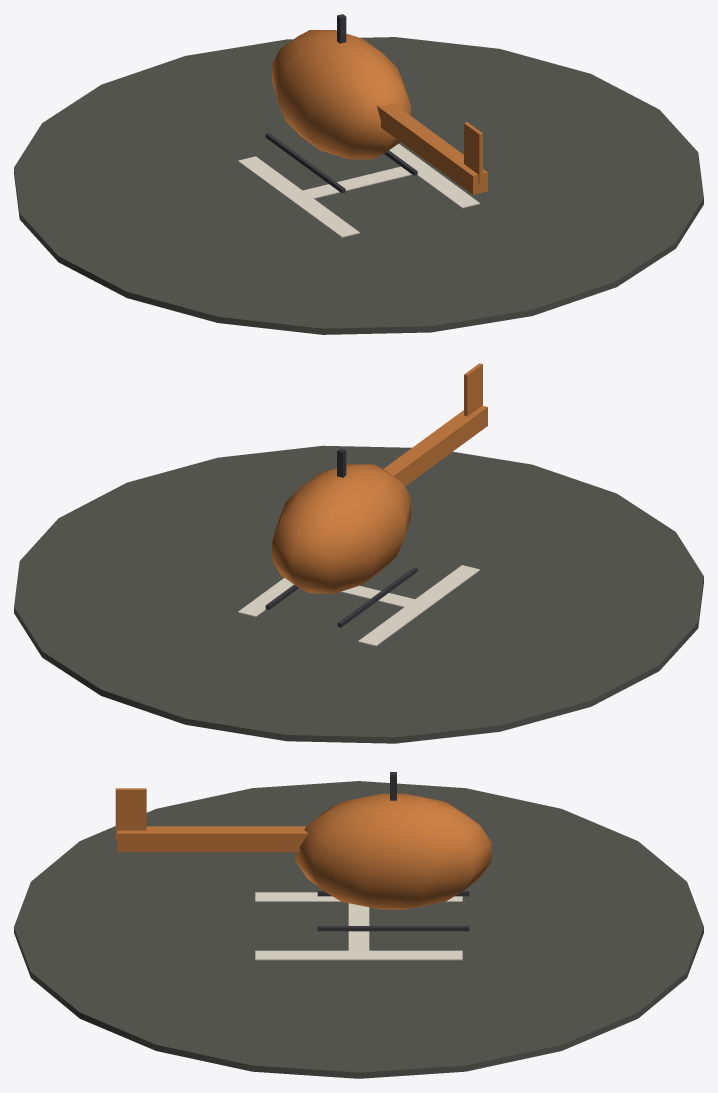
File: theme-outpost-2.glb
3 renders of one model, top to bottom at view 1: azimuth 30°, elevation 25°; view 2: azimuth 150°, elevation 25°; view 3: azimuth 270°, elevation 25°, orthographic.
Visible parts, largest first — view 1: 00_#55554f_noshadow, 02_#c9793a, 01_#e8e0d0_noshadow, 03_#c9793a_r320, 04_#3a3a40; view 2: 00_#55554f_noshadow, 02_#c9793a, 01_#e8e0d0_noshadow, 04_#3a3a40, 03_#c9793a_r320; view 3: 00_#55554f_noshadow, 02_#c9793a, 01_#e8e0d0_noshadow, 03_#c9793a_r320, 04_#3a3a40.
Boxes of the visible parts, <box> form: 00_#55554f_noshadow: <box>14,37,703,334</box>; 02_#c9793a: <box>272,30,487,194</box>; 01_#e8e0d0_noshadow: <box>238,143,479,237</box>; 03_#c9793a_r320: <box>464,122,482,184</box>; 04_#3a3a40: <box>265,133,417,193</box>; 00_#55554f_noshadow: <box>14,445,703,743</box>; 02_#c9793a: <box>272,405,487,593</box>; 01_#e8e0d0_noshadow: <box>238,565,479,646</box>; 04_#3a3a40: <box>265,567,417,627</box>; 03_#c9793a_r320: <box>464,363,482,416</box>; 00_#55554f_noshadow: <box>14,781,703,1078</box>; 02_#c9793a: <box>117,793,491,909</box>; 01_#e8e0d0_noshadow: <box>255,892,462,960</box>; 03_#c9793a_r320: <box>115,788,146,839</box>; 04_#3a3a40: <box>317,891,469,931</box>.
Size of the model in its own units: 20 by 5.1 by 20.
